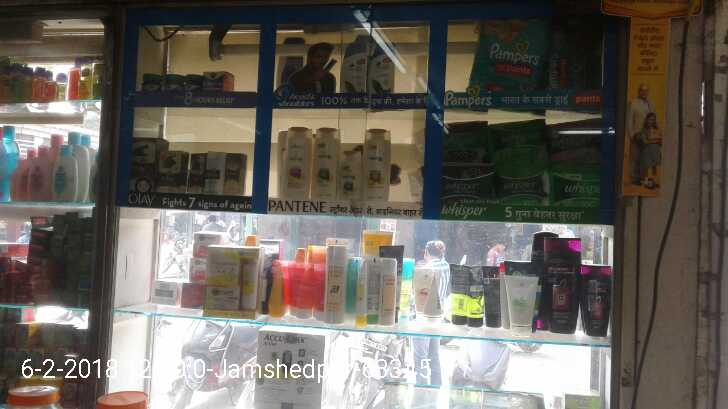beauty: (363, 125, 393, 203), (284, 125, 313, 200), (313, 126, 339, 205), (129, 135, 161, 193), (339, 40, 366, 93), (340, 150, 365, 204), (369, 45, 396, 90), (224, 153, 248, 196), (161, 154, 185, 190), (204, 153, 223, 197), (187, 156, 203, 194)
pharmacy: (466, 18, 547, 98), (548, 16, 602, 93), (442, 121, 492, 166), (547, 120, 600, 162), (491, 121, 548, 160), (498, 162, 549, 205), (552, 169, 600, 212), (438, 167, 493, 199), (200, 67, 235, 90), (183, 71, 201, 92), (165, 73, 186, 90), (138, 70, 159, 87)
